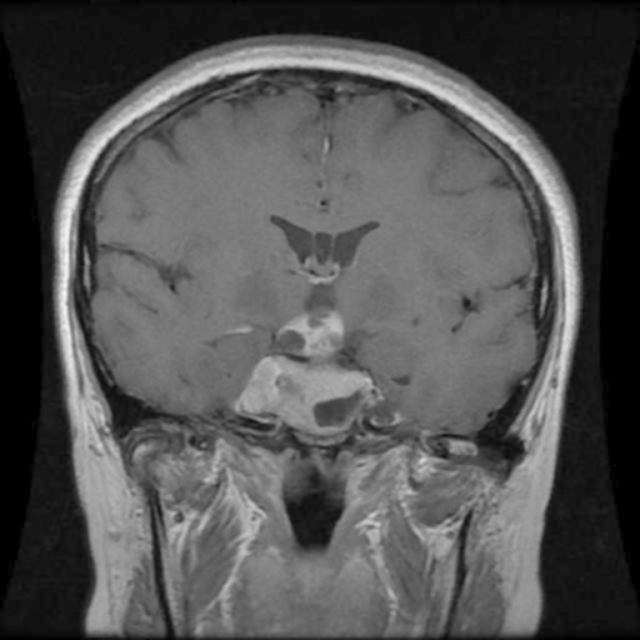no tumor: (234, 300, 380, 436)
